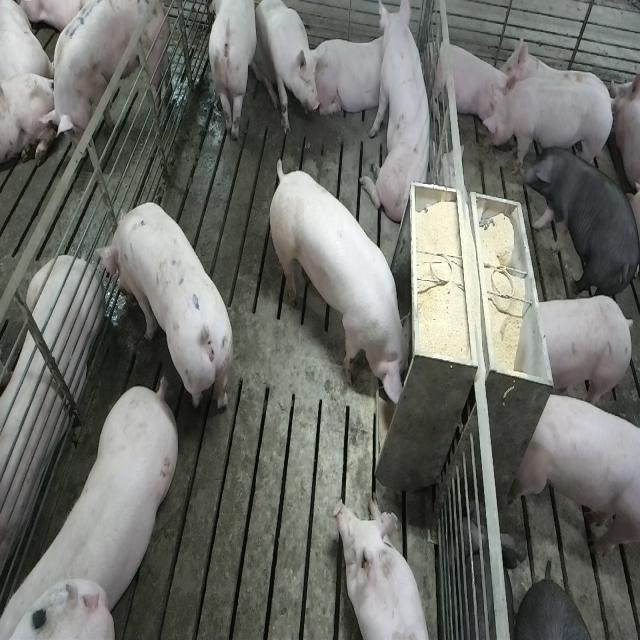Feeding: (272, 160, 418, 409)
Sitting: (367, 4, 436, 229), (254, 0, 319, 137)
Standing: (5, 372, 184, 633), (97, 202, 234, 420), (514, 386, 638, 568), (516, 139, 638, 299), (39, 2, 170, 141), (481, 73, 617, 176), (528, 292, 633, 410), (207, 2, 260, 146)
Sternal_lying: (0, 256, 100, 580), (335, 498, 435, 640), (427, 36, 511, 134), (312, 33, 388, 122)
